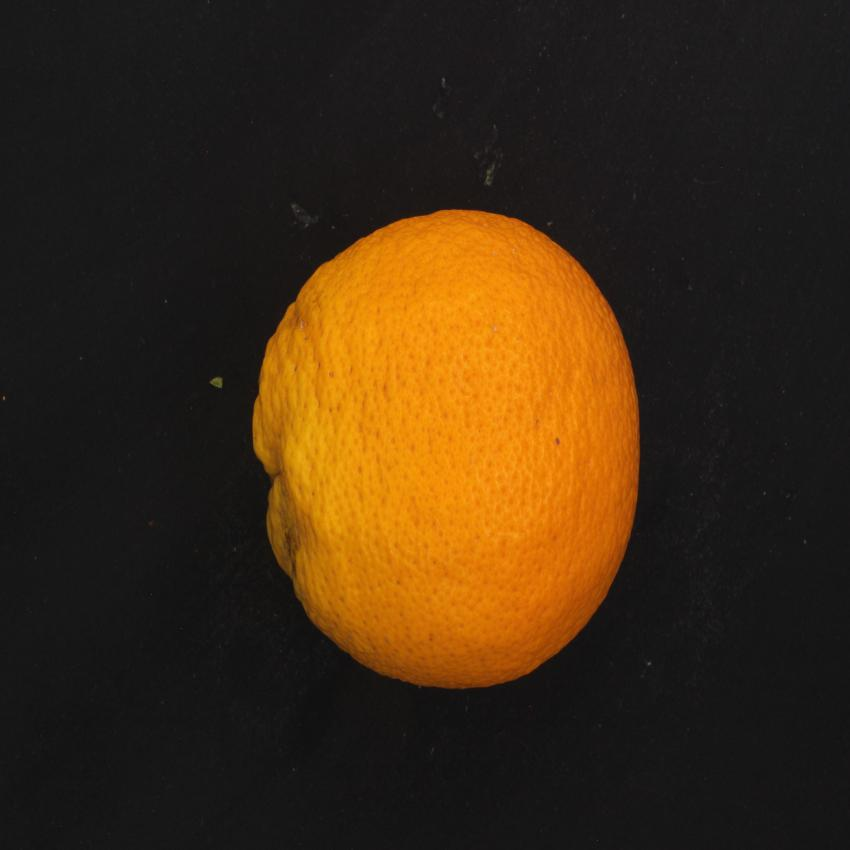Buen estado: (245, 199, 651, 705)
